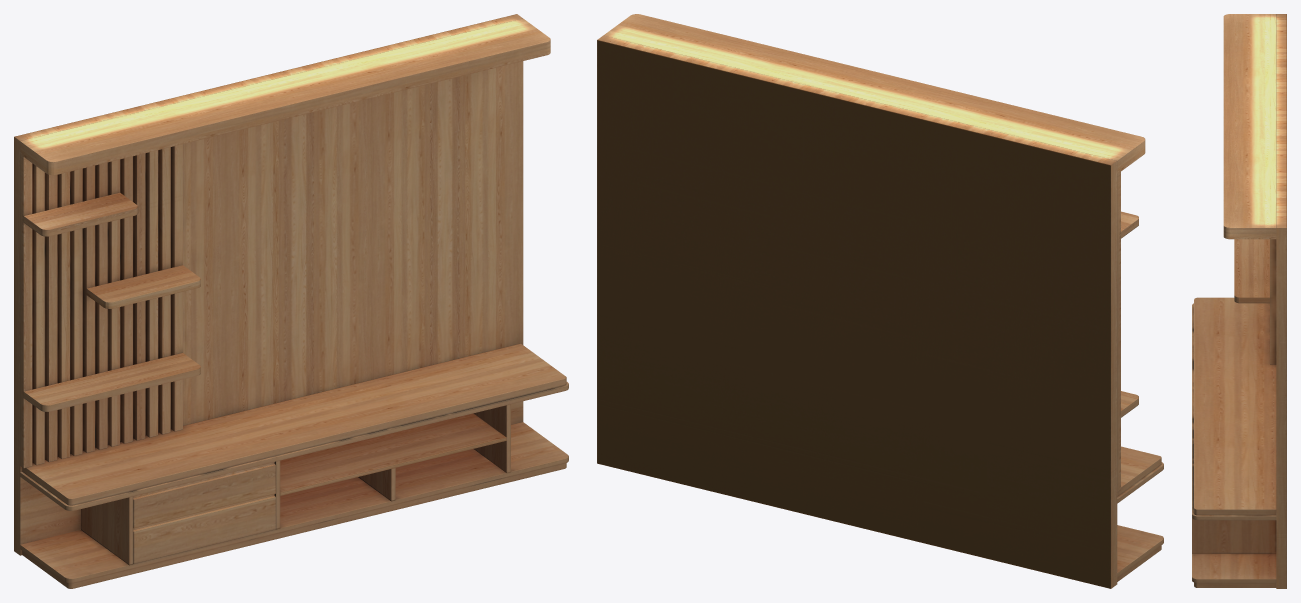
File: 3D TV White Cabinet_02.fbx
3 views of the same model, side by side, from view 1: azimuth 30°, elevation 25°; view 2: azimuth 150°, elevation 25°; view 3: azimuth 270°, elevation 25° (orthographic). The views are drawn at different scales.
Bounding box in the file's own units: 240 × 189 × 45.
